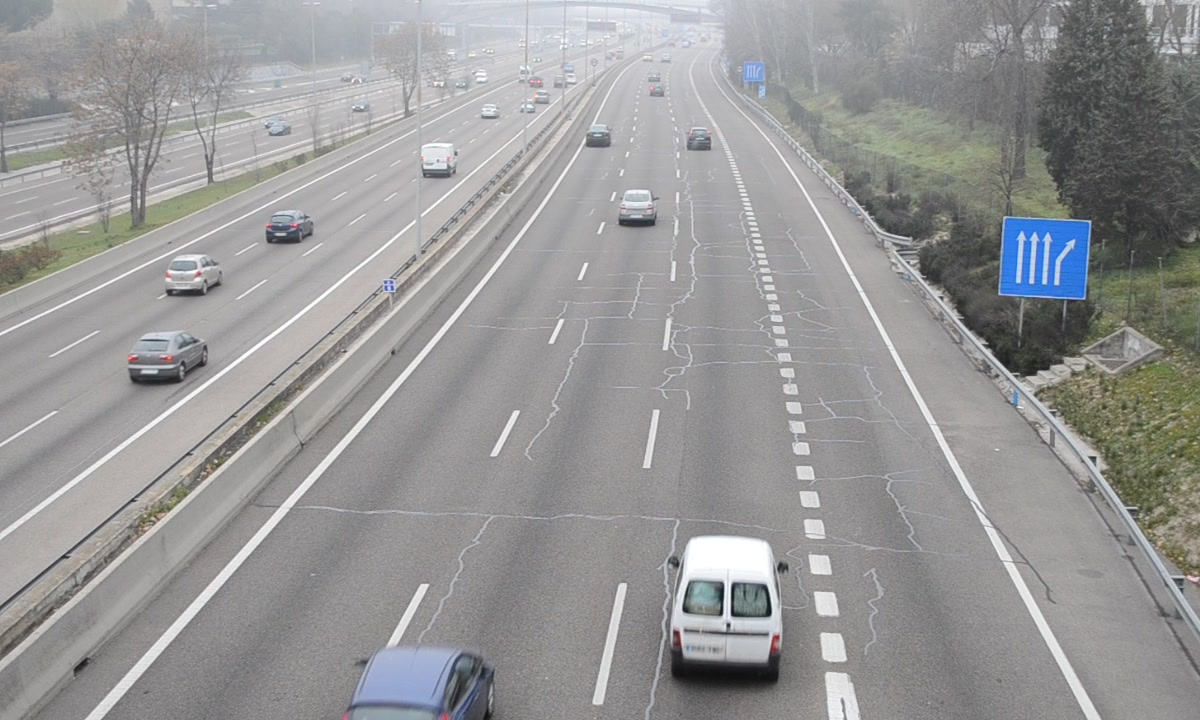car: (345, 647, 495, 720), (618, 189, 657, 224), (586, 124, 612, 149), (686, 126, 710, 149)
van: (670, 536, 784, 679)
